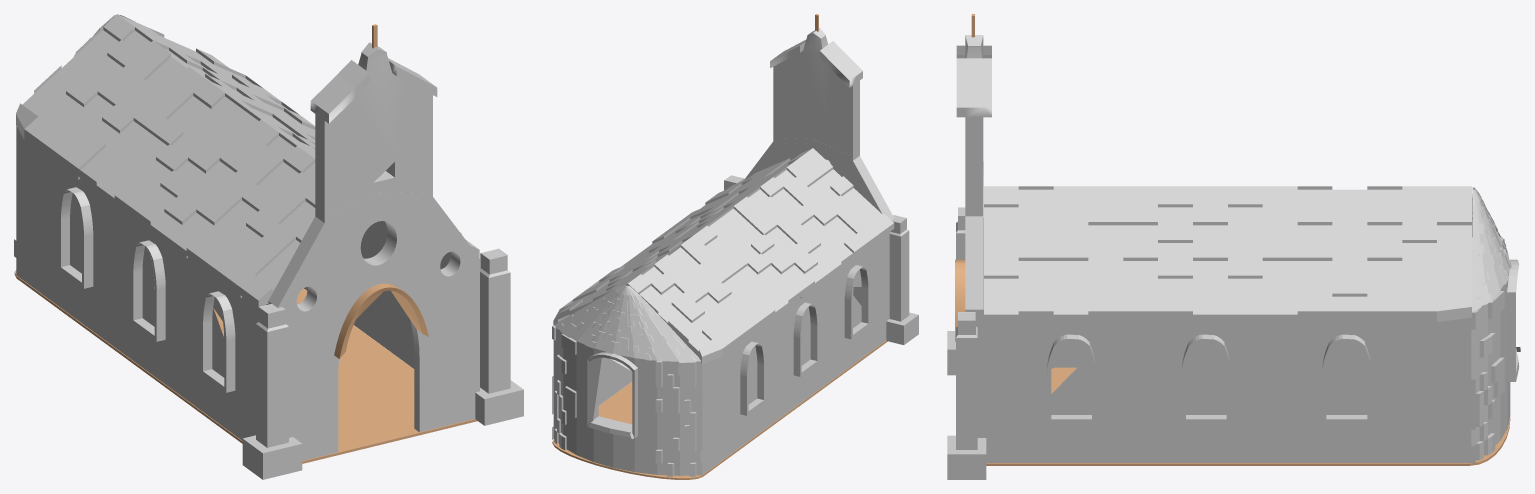
Rendered from oldRomanChurch.fbx.
3 views of the same model, side by side, from view 1: azimuth 30°, elevation 25°; view 2: azimuth 150°, elevation 25°; view 3: azimuth 270°, elevation 25° (orthographic). The views are drawn at different scales.
Visible parts, largest first — view 1: Cube.004_dmg_dmg; view 2: Cube.004_dmg_dmg; view 3: Cube.004_dmg_dmg.
Part boxes in pixels (x1,y1,x2,y2): Cube.004_dmg_dmg: [14, 14, 523, 479]; Cube.004_dmg_dmg: [552, 14, 918, 479]; Cube.004_dmg_dmg: [947, 14, 1520, 479].
Size of the model in its own units: 922 by 1406 by 1813.
